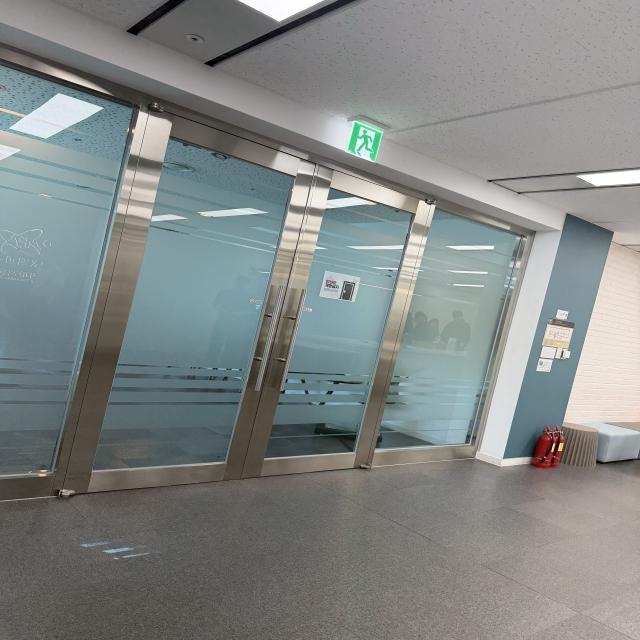front_door: (0, 46, 535, 501)
